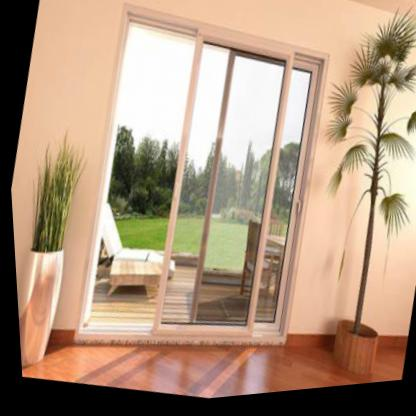Window: (75, 8, 324, 338)
Wooden floor: (17, 332, 402, 402)
